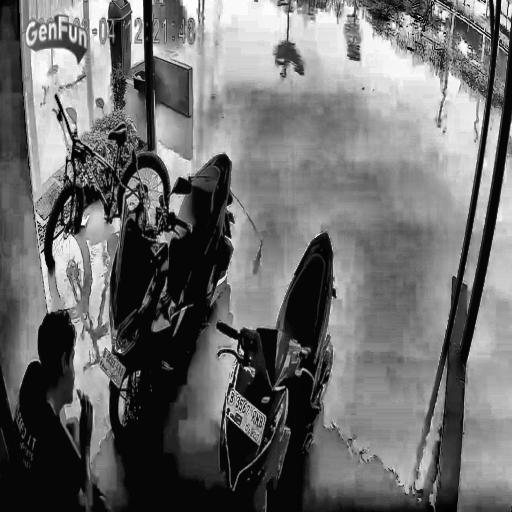banjir: (157, 0, 484, 508), (459, 152, 512, 508), (168, 336, 230, 491)
